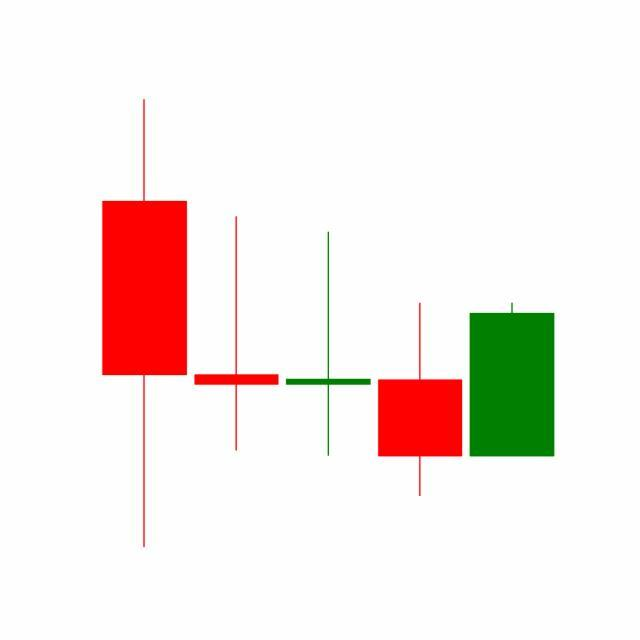Marubozu: (466, 301, 559, 458)
